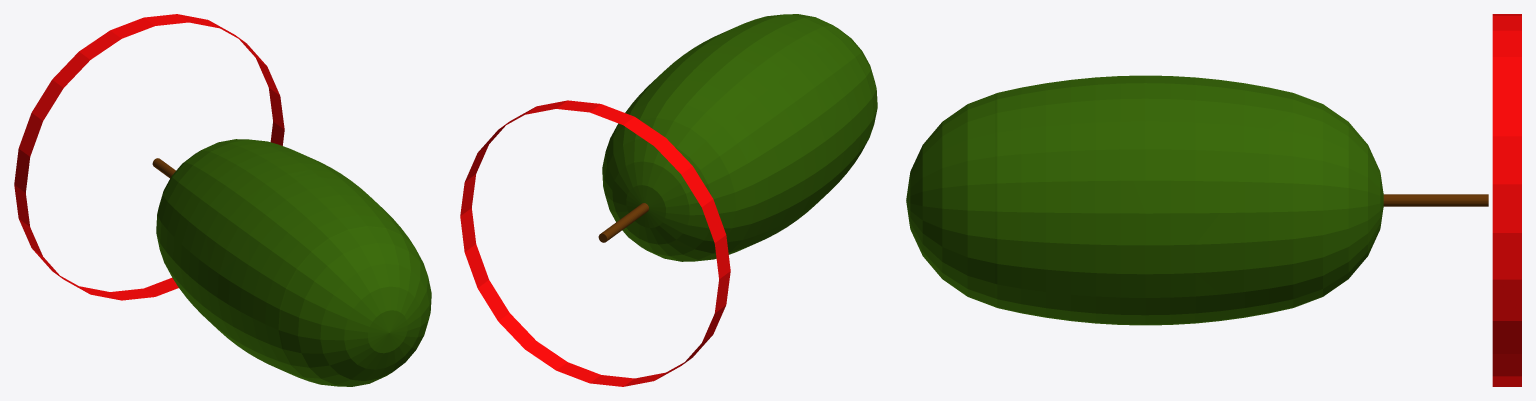
The model's file is LPo14m.obj.
The picture shows the model from 3 angles, left to right: view 1: azimuth 30°, elevation 25°; view 2: azimuth 150°, elevation 25°; view 3: azimuth 270°, elevation 25°; orthographic projection. The views are drawn at different scales.
Bounding box in the file's own units: 9 × 9 × 14.8.
